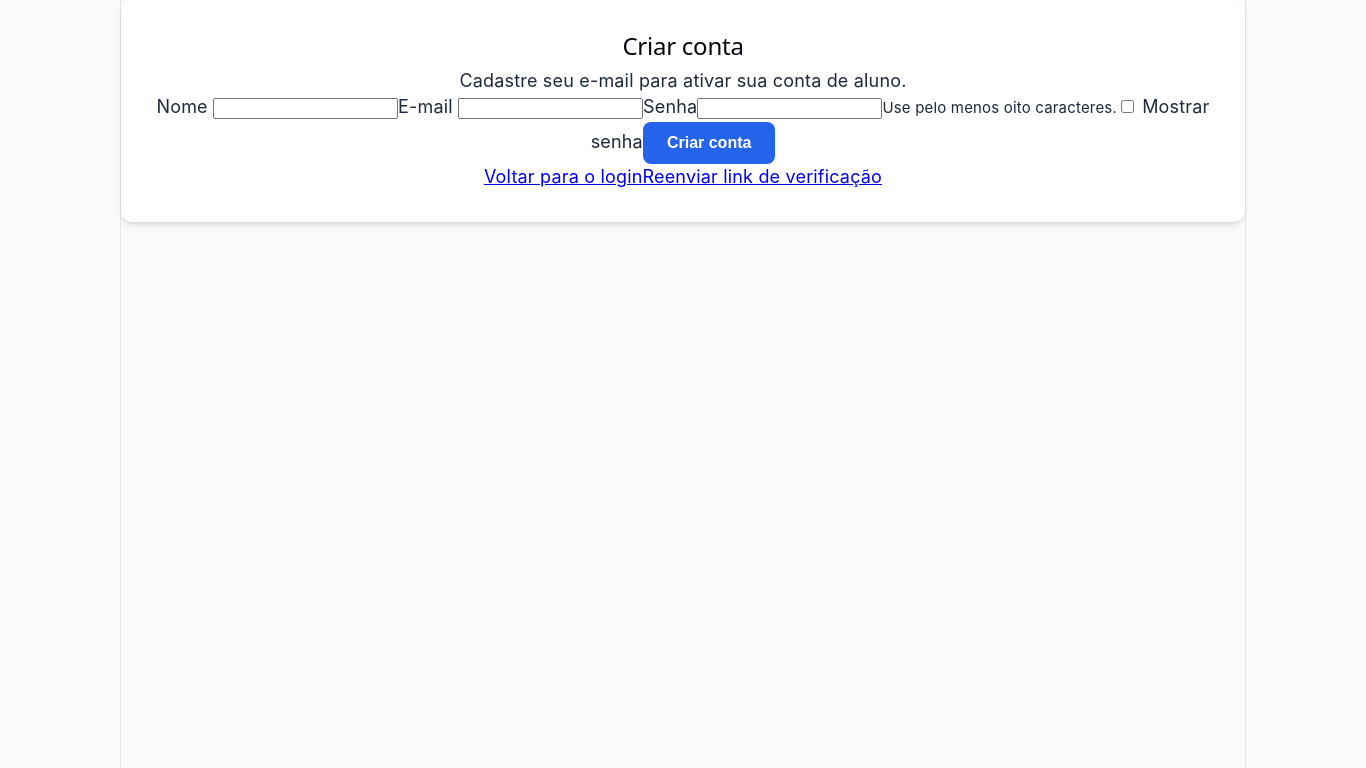
Test: Fluxos públicos da conta › envia o cadastro pelo gateway e mostra a instrução de verificação
The width and height of the screenshot is (1366, 768).
Type "Aluno" into the field labelled "Nome" at (306, 109), box [213,98,398,119]
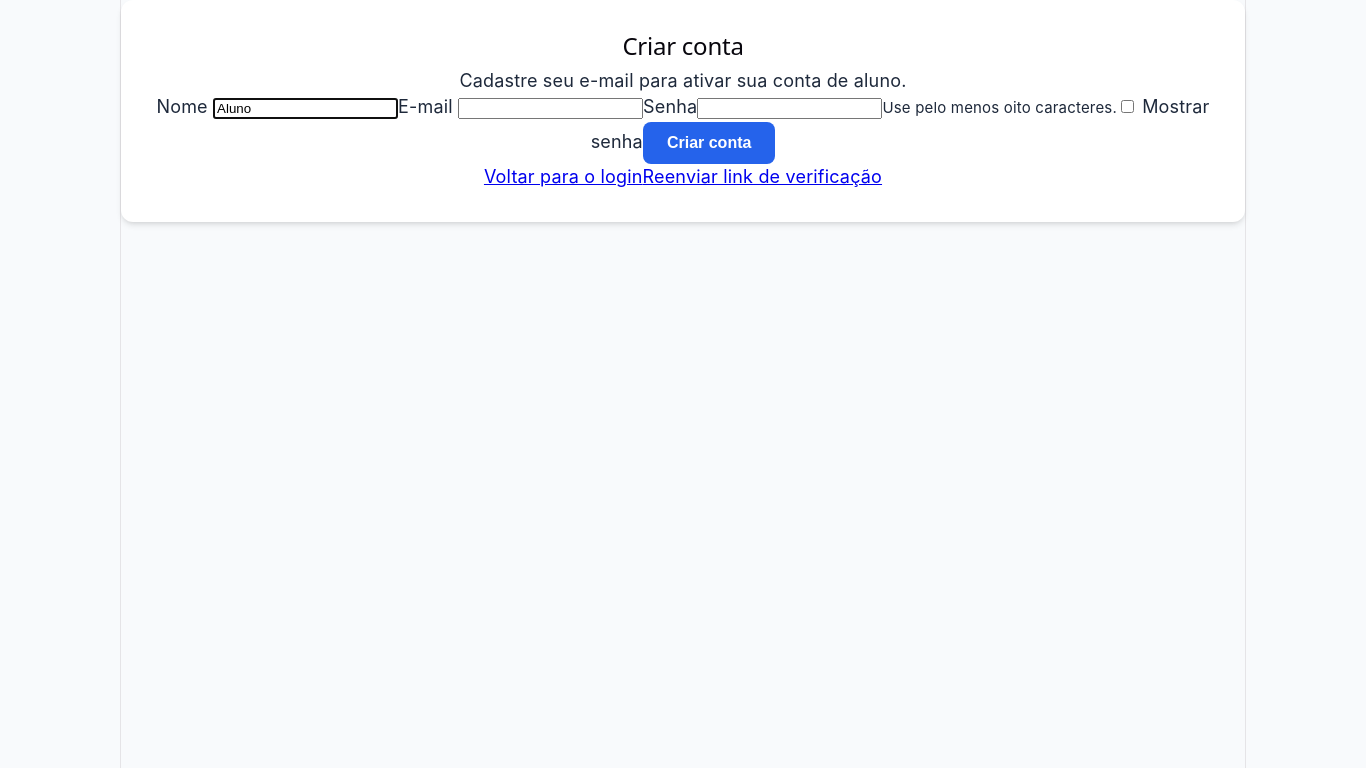
Type "aluno@example.org" into the field labelled "E-mail" at (550, 109), box [458,98,643,119]
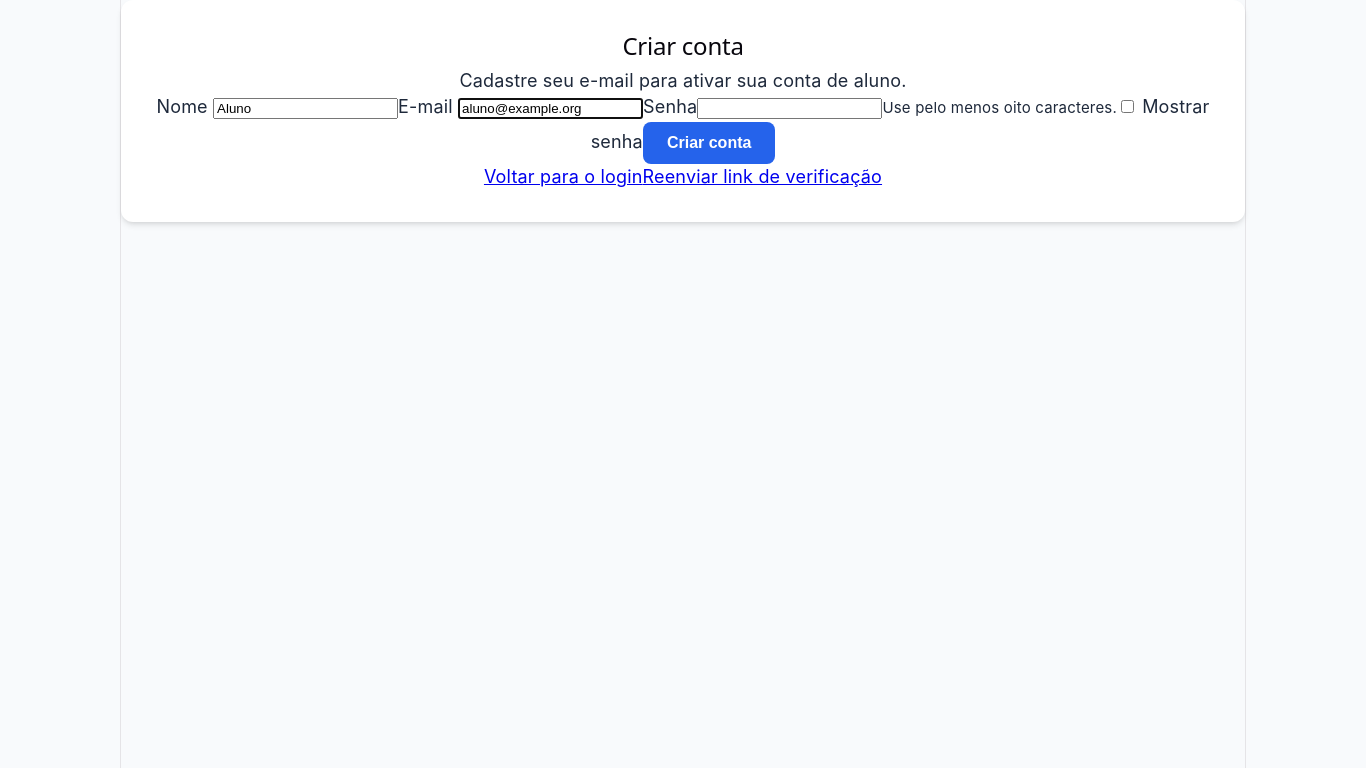
Type "exemplo123" into the password field labelled "Senha" at (790, 109), box [697,98,882,119]
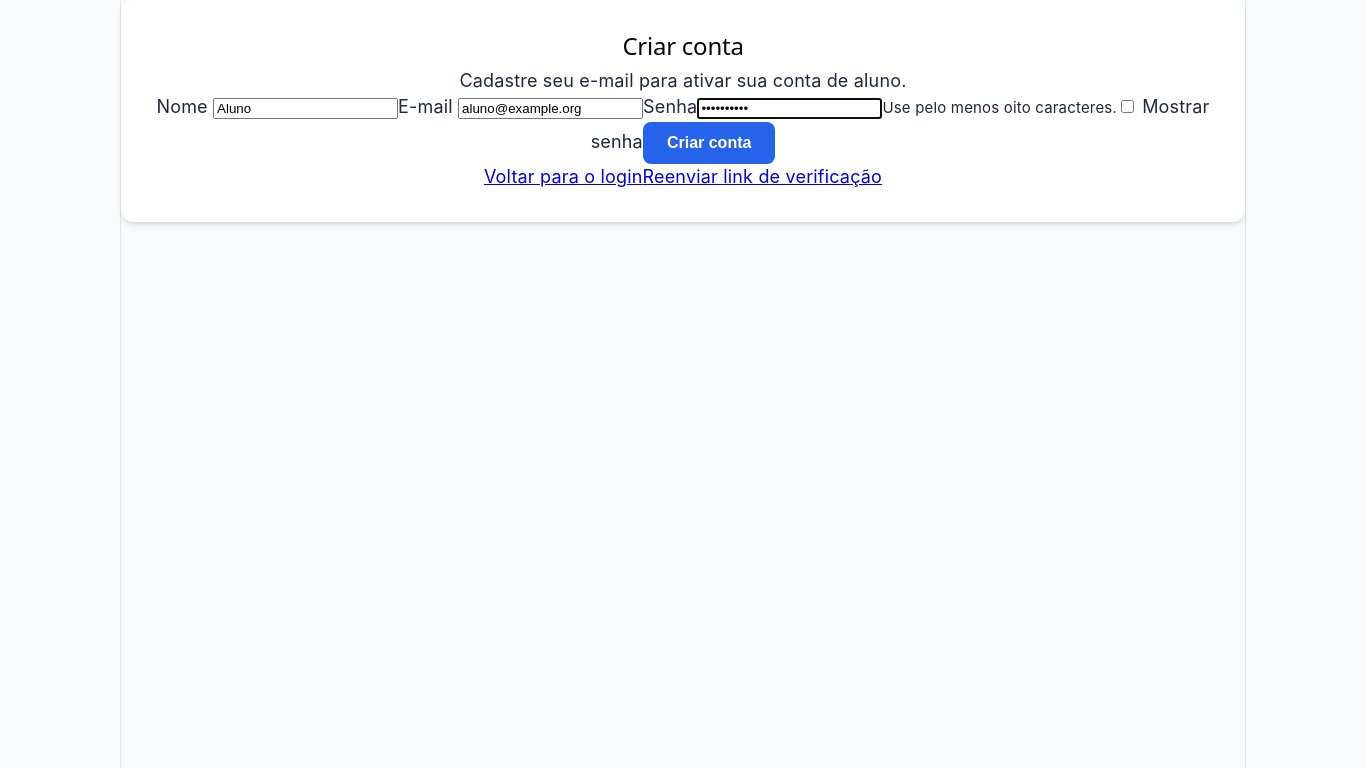
Click the button "Criar conta" at (709, 142), box [643,122,775,164]
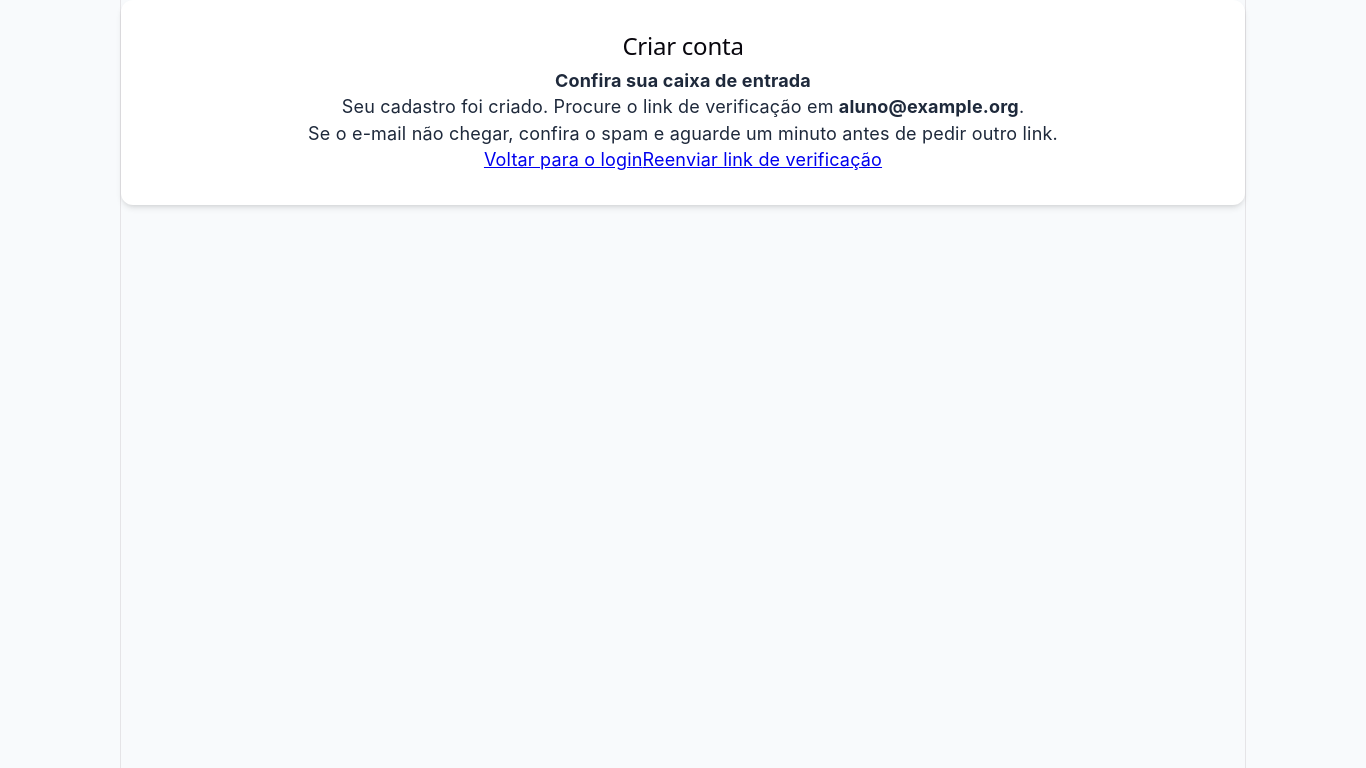
Check: the message shows "link de verificação", box [342,96,839,117]
